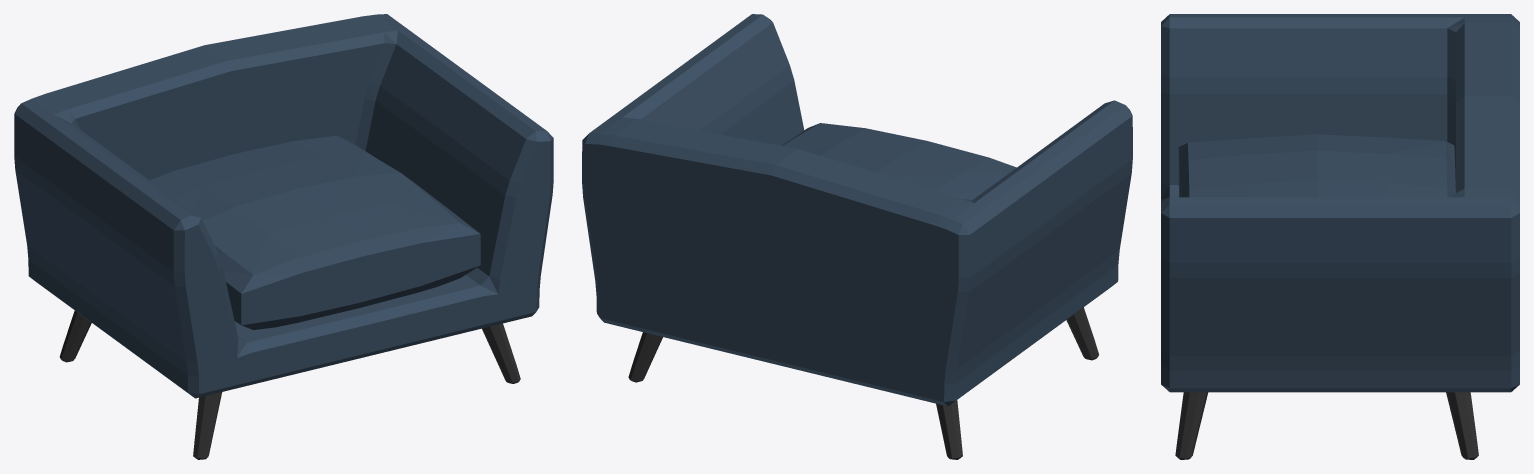
The model's file is waiting_couch.fbx.
The picture shows the model from 3 angles, left to right: view 1: azimuth 30°, elevation 25°; view 2: azimuth 150°, elevation 25°; view 3: azimuth 270°, elevation 25°; orthographic projection. The views are drawn at different scales.
Parts seen in each view (by area): view 1: waiting_couch_LOD0; view 2: waiting_couch_LOD0; view 3: waiting_couch_LOD0.
Boxes of the visible parts, x1,y1,x2,y2 form: waiting_couch_LOD0: (14, 14, 553, 459); waiting_couch_LOD0: (582, 14, 1132, 459); waiting_couch_LOD0: (1161, 14, 1519, 459).
Size of what is drawn, in the model's own units: 1.6 by 1.06 by 1.22.
